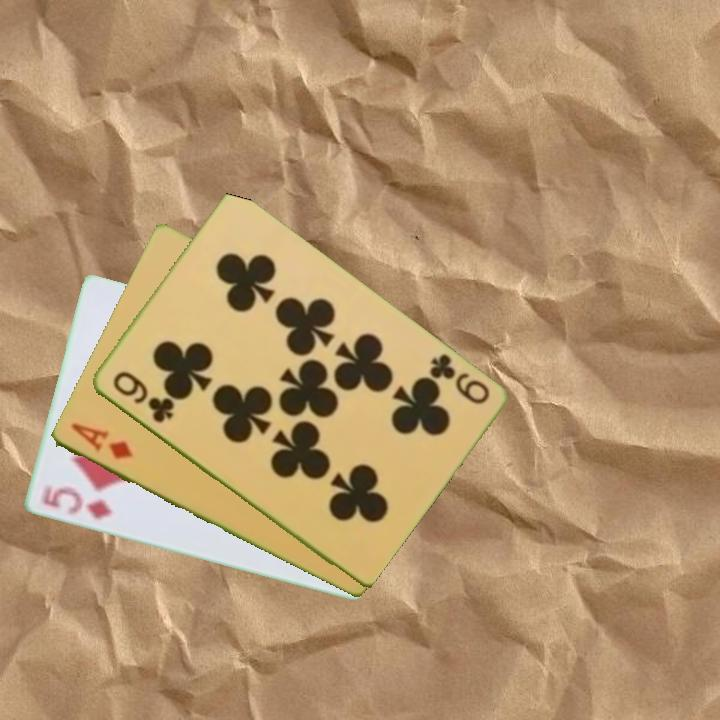5d: (37, 482, 116, 522)
9c: (108, 367, 176, 426), (425, 350, 492, 408)
Ad: (67, 419, 136, 462)
